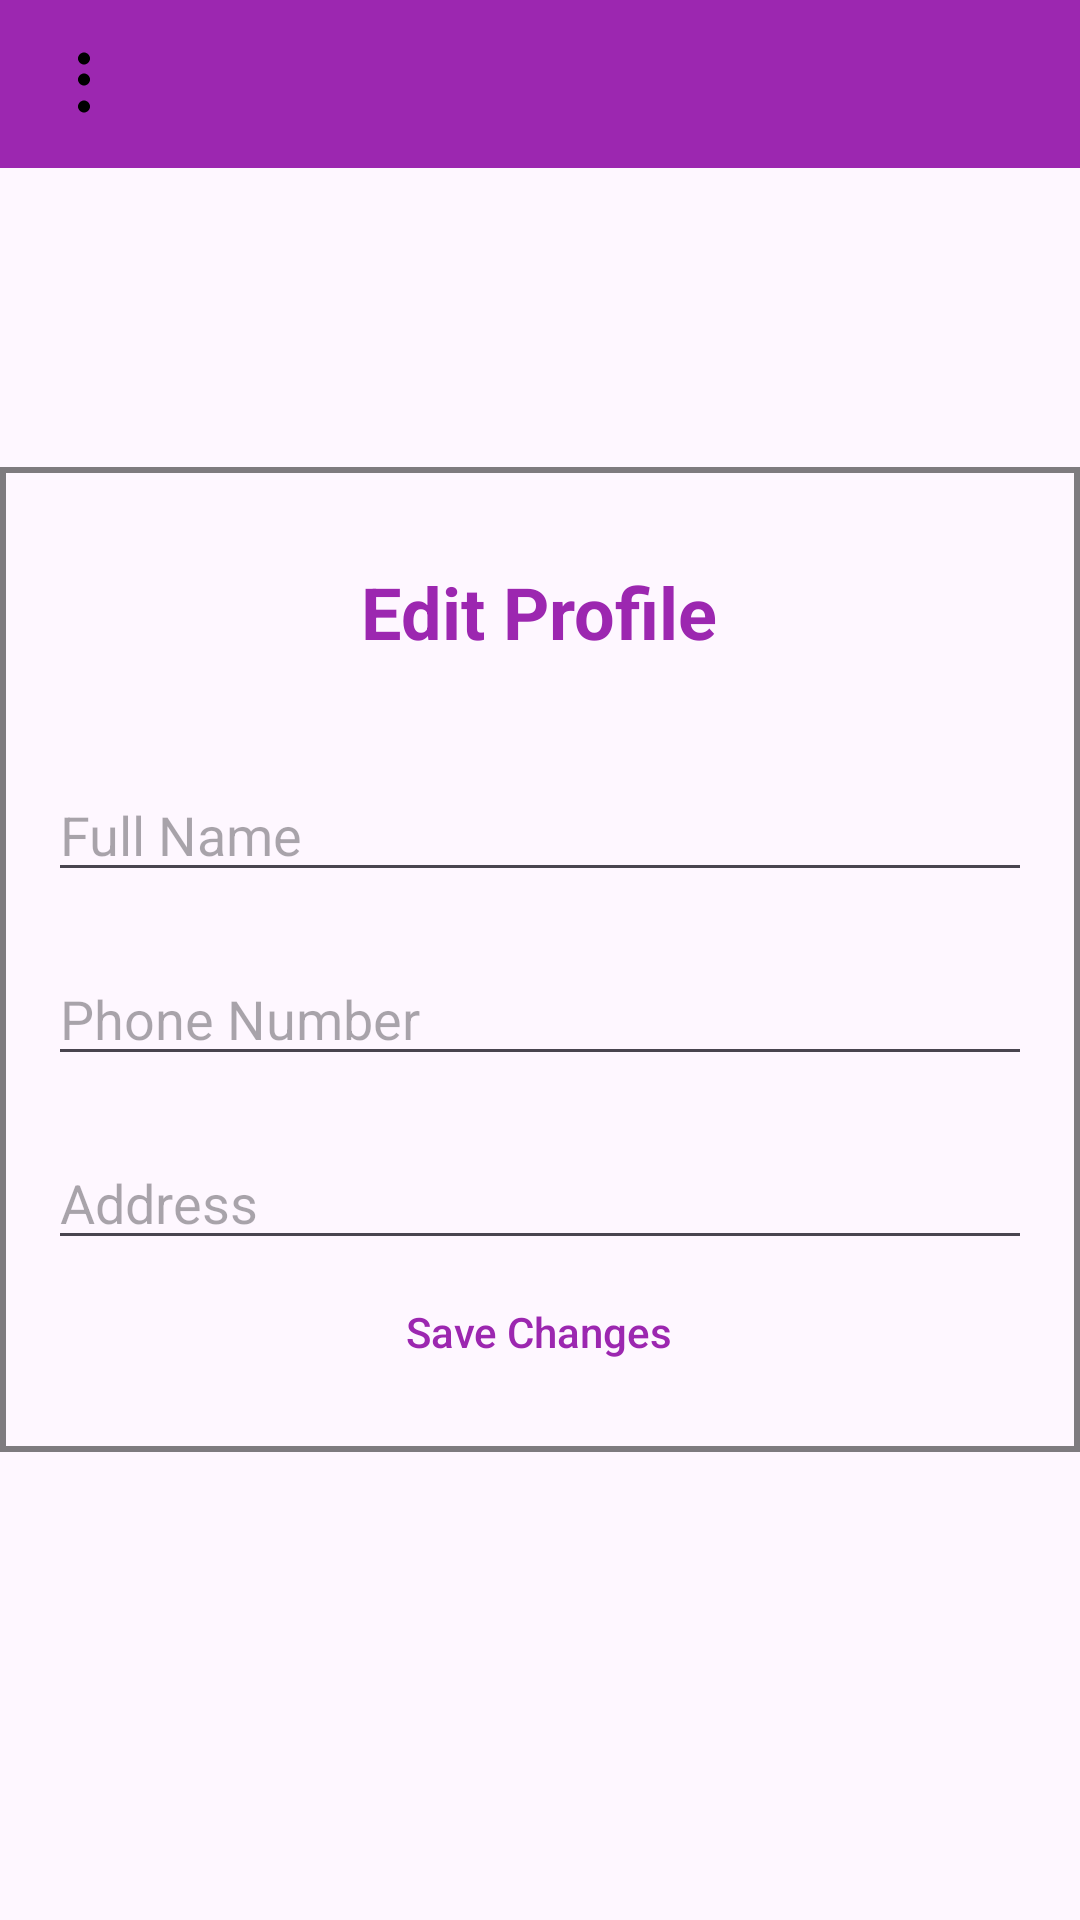

Icon bounding boxes for this 1080 x 1920 phone screenshot, format box=[x1, y1, x2, y2]:
Three Dot Menu: box=[78, 52, 90, 113]
